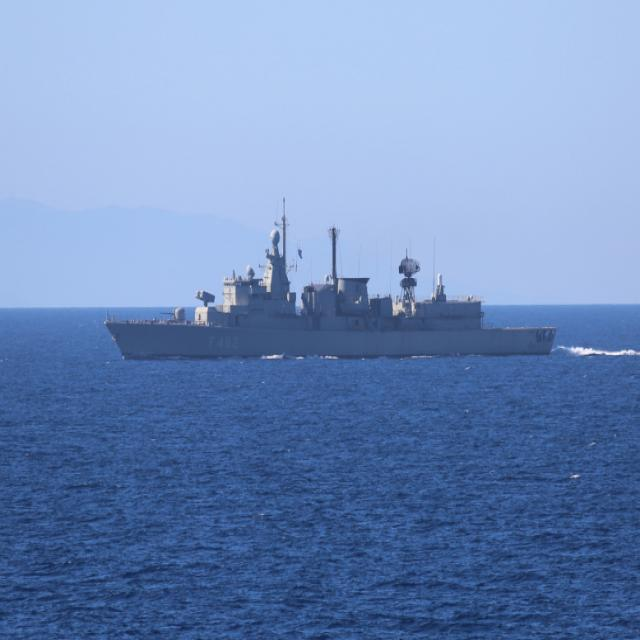Fragata: (104, 185, 559, 366)
